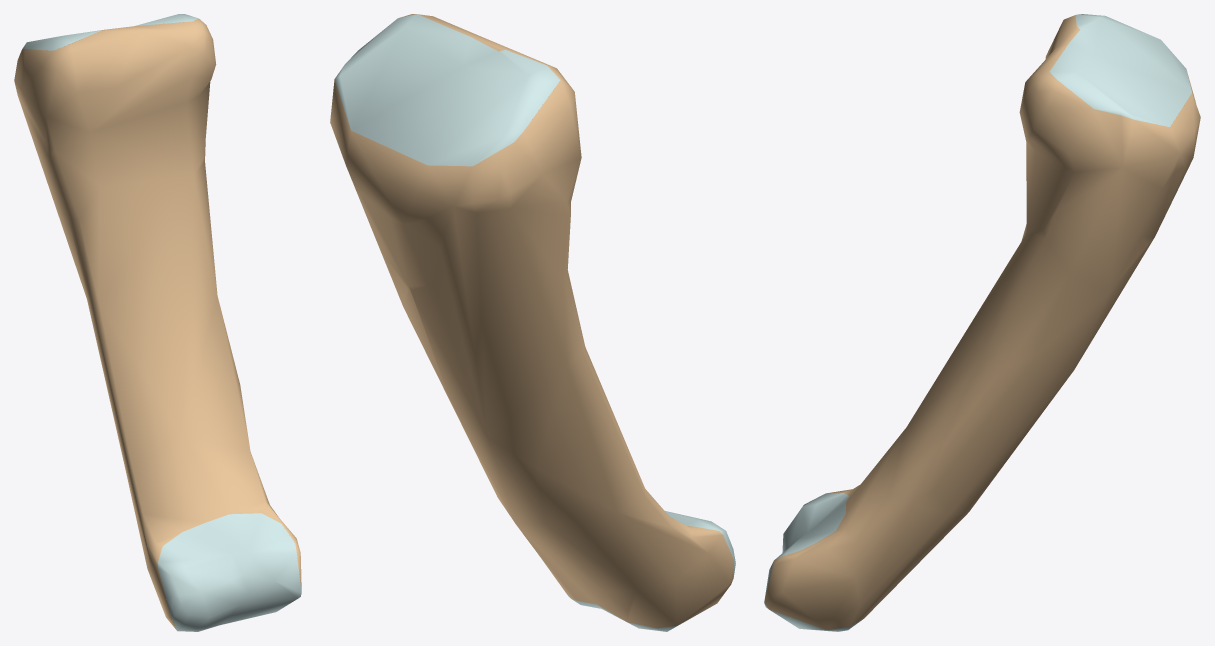
The model's file is Phalanx_proximal_4th_finger_right.glb.
The picture shows the model from 3 angles, left to right: view 1: azimuth 30°, elevation 25°; view 2: azimuth 150°, elevation 25°; view 3: azimuth 270°, elevation 25°; orthographic projection. The views are drawn at different scales.
Visible parts, largest first — view 1: Proximal_phalanx_of_4th_finger.r_Generated_Mesh_From_X3D.706; view 2: Proximal_phalanx_of_4th_finger.r_Generated_Mesh_From_X3D.706; view 3: Proximal_phalanx_of_4th_finger.r_Generated_Mesh_From_X3D.706.
Part boxes in pixels (x1=…): Proximal_phalanx_of_4th_finger.r_Generated_Mesh_From_X3D.706: x1=14, y1=14, x2=301, y2=631; Proximal_phalanx_of_4th_finger.r_Generated_Mesh_From_X3D.706: x1=330, y1=14, x2=735, y2=631; Proximal_phalanx_of_4th_finger.r_Generated_Mesh_From_X3D.706: x1=764, y1=14, x2=1200, y2=631.
Bounding box in the file's own units: 0.014 × 0.0404 × 0.0273.
